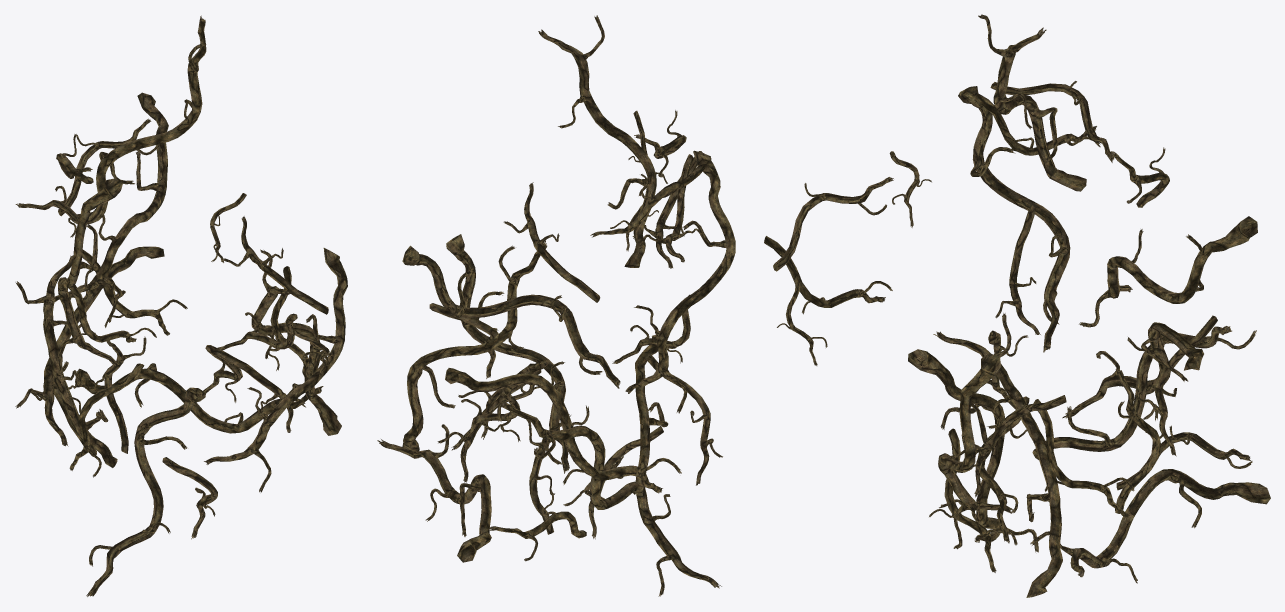
The picture shows the model from 3 angles, left to right: view 1: azimuth 30°, elevation 25°; view 2: azimuth 150°, elevation 25°; view 3: azimuth 270°, elevation 25°; orthographic projection. The views are drawn at different scales.
Visible parts, largest first — view 1: mesh0, mesh2; view 2: mesh0, mesh2; view 3: mesh0, mesh2.
Part boxes in pixels (left/top/right/bottom): mesh0: left=20, top=21, right=347, bottom=594; mesh2: left=15, top=15, right=328, bottom=596; mesh0: left=383, top=21, right=735, bottom=588; mesh2: left=377, top=15, right=722, bottom=596; mesh0: left=764, top=16, right=1270, bottom=597; mesh2: left=777, top=14, right=1256, bottom=583.
Bounding box in the file's own units: 33.03 × 54.76 × 42.46.
